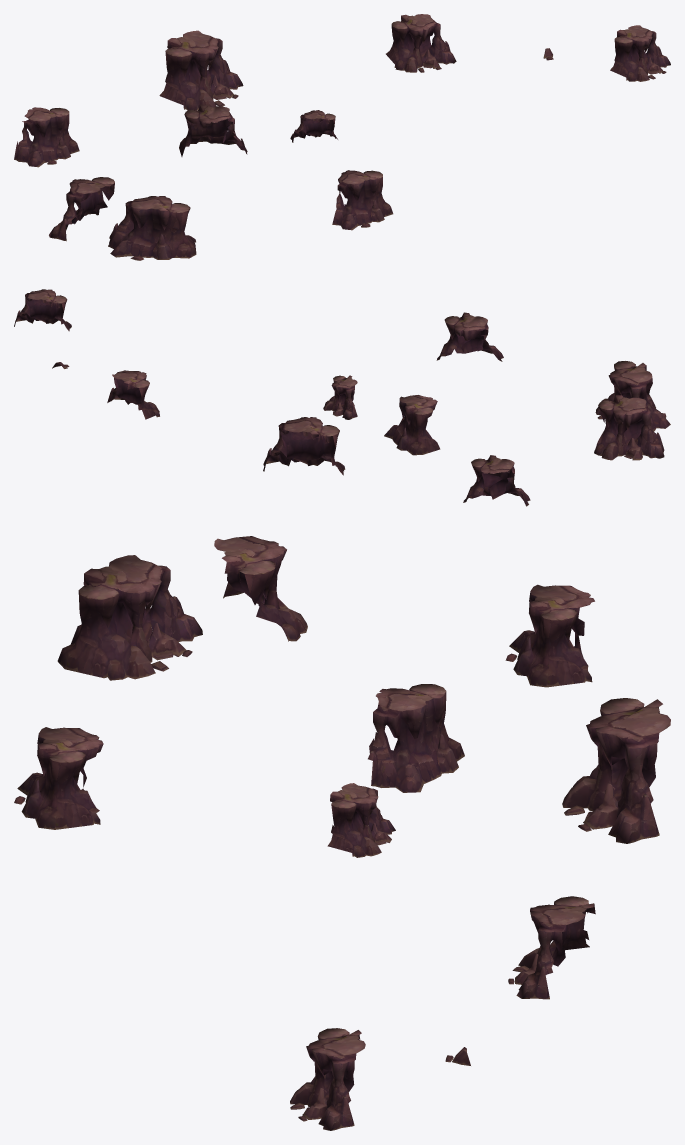
File: area10_shiqiang_01.FBX
The picture shows the model from 3 angles, top to bottom: view 1: azimuth 30°, elevation 25°; view 2: azimuth 150°, elevation 25°; view 3: azimuth 270°, elevation 25°; orthographic projection. The views are drawn at different scales.
Parts seen in each view (by area): view 1: area10_shiqiang_01; view 2: area10_shiqiang_01; view 3: area10_shiqiang_01.
Part boxes in pixels (bbox=[...]): area10_shiqiang_01: bbox=[14, 14, 670, 260]; area10_shiqiang_01: bbox=[14, 289, 670, 506]; area10_shiqiang_01: bbox=[14, 536, 670, 1130].
Size of the model in its own units: 10474 by 833 by 5386.
